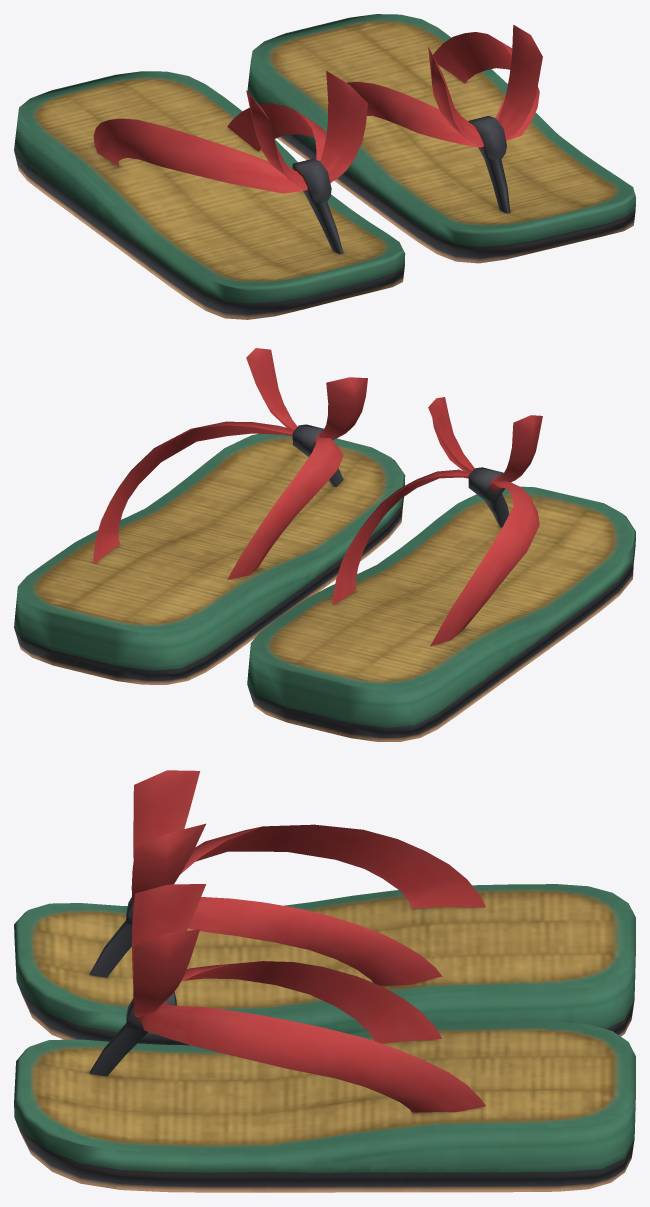
The model's file is p0_ftw1000_00_ftw00.gltf.
3 renders of one model, top to bottom at view 1: azimuth 30°, elevation 25°; view 2: azimuth 150°, elevation 25°; view 3: azimuth 270°, elevation 25°, orthographic. The views are drawn at different scales.
Parts seen in each view (by area): view 1: ftw00_shoes_mesh_shape:shoes; view 2: ftw00_shoes_mesh_shape:shoes; view 3: ftw00_shoes_mesh_shape:shoes.
Part boxes in pixels (x1,y1,x2,y2): ftw00_shoes_mesh_shape:shoes: (14,14,635,319); ftw00_shoes_mesh_shape:shoes: (14,348,635,741); ftw00_shoes_mesh_shape:shoes: (14,770,635,1192).
Size of what is drawn, in the model's own units: 0.2331 by 0.0977 by 0.25.
Materials: 1 (1 with a texture image).
